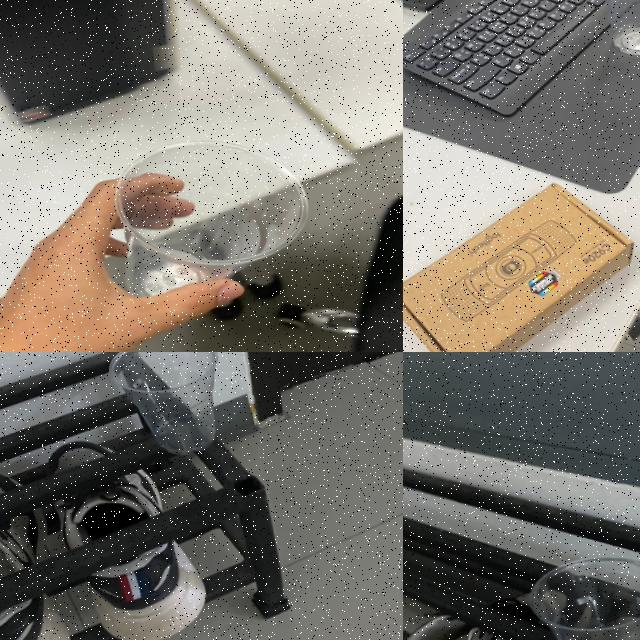glass: (81, 116, 330, 328), (96, 352, 236, 466), (508, 539, 640, 640), (576, 0, 640, 65)
